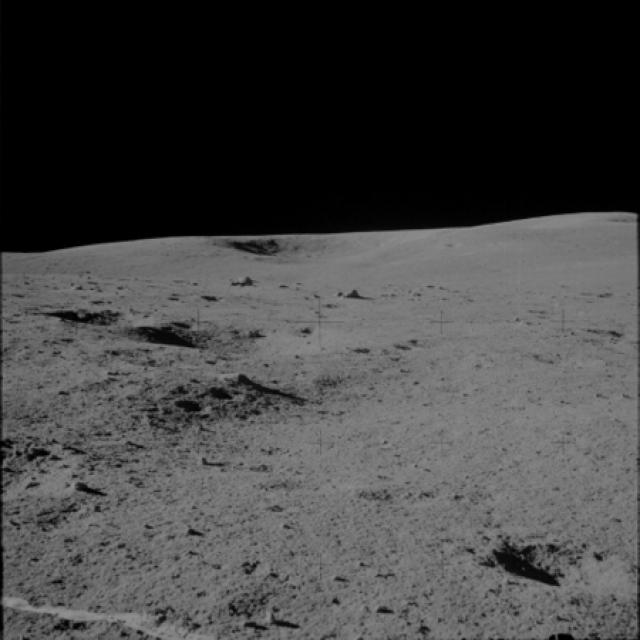crater: (470, 518, 634, 604), (121, 315, 262, 364), (40, 303, 126, 333), (201, 382, 240, 411), (173, 390, 200, 424)
rock: (222, 269, 252, 294), (337, 285, 359, 306)
